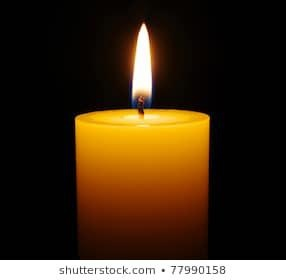fire: (130, 19, 154, 108)
